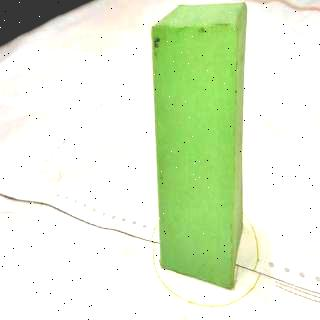greenbox: (152, 3, 247, 290)
